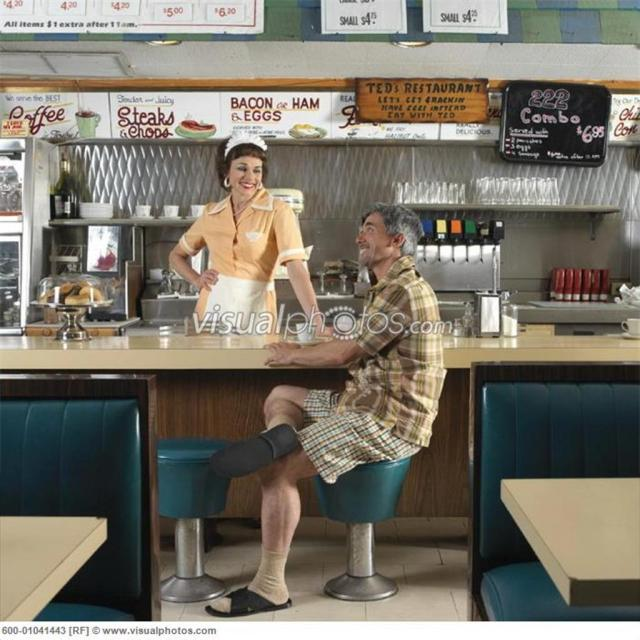nomask: (354, 209, 392, 264), (231, 152, 265, 197)
